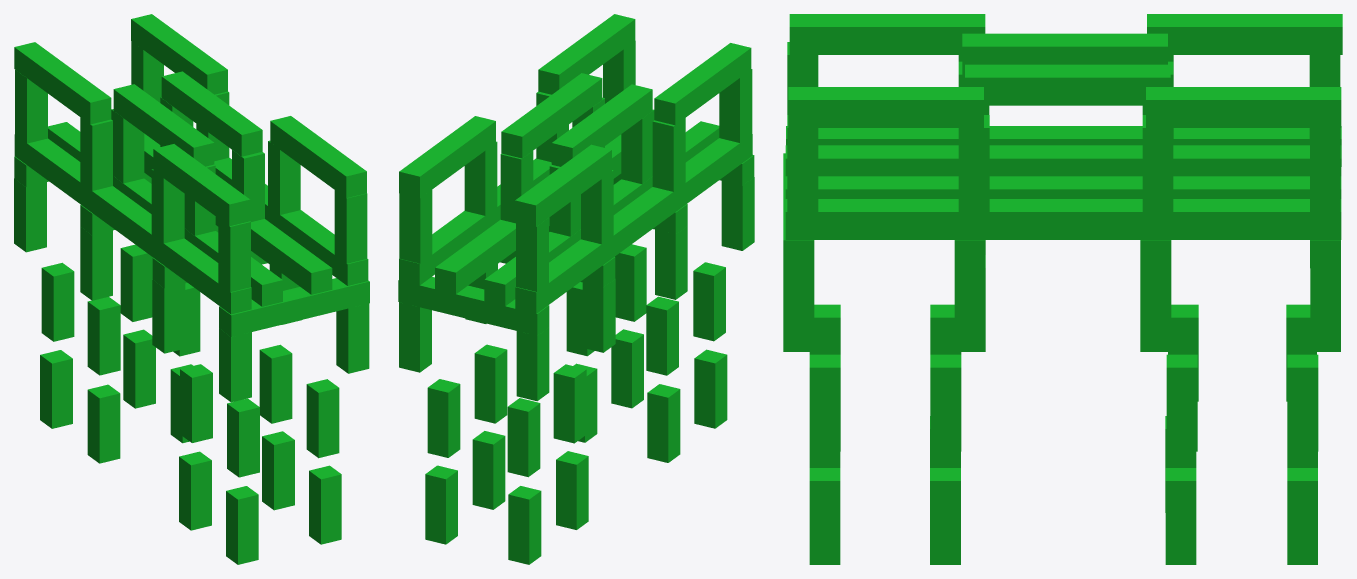
Rendered from Dynamic_1kg_0_5friction.fbx.
3 renders of one model, left to right at view 1: azimuth 30°, elevation 25°; view 2: azimuth 150°, elevation 25°; view 3: azimuth 270°, elevation 25°, orthographic. The views are drawn at different scales.
Visible parts, largest first — view 1: D1DynamicBox24, D1DynamicBox22, D1DynamicBox41, D1DynamicBox43, D1DynamicBox44, D1DynamicBox40, D1DynamicBox26, D1DynamicBox42, D1DynamicBox39, D1DynamicBox25, D1DynamicBox23, D1DynamicBox16 (+34 smaller); view 2: D1DynamicBox24, D1DynamicBox41, D1DynamicBox20, D1DynamicBox44, D1DynamicBox43, D1DynamicBox39, D1DynamicBox26, D1DynamicBox42, D1DynamicBox40, D1DynamicBox25, D1DynamicBox23, D1DynamicBox14 (+34 smaller); view 3: D1DynamicBox23, D1DynamicBox25, D1DynamicBox26, D1DynamicBox24, D1DynamicBox39, D1DynamicBox40, D1DynamicBox41, D1DynamicBox43, D1DynamicBox44, D1DynamicBox42, D1DynamicBox14, D1DynamicBox15 (+24 smaller).
Boxes of the visible parts, x1=… form: D1DynamicBox24: x1=14, y1=134, x2=251, y2=314; D1DynamicBox22: x1=219, y1=278, x2=369, y2=336; D1DynamicBox41: x1=161, y1=71, x2=262, y2=156; D1DynamicBox43: x1=14, y1=42, x2=111, y2=124; D1DynamicBox44: x1=153, y1=144, x2=250, y2=226; D1DynamicBox40: x1=270, y1=116, x2=366, y2=198; D1DynamicBox26: x1=144, y1=133, x2=332, y2=294; D1DynamicBox42: x1=113, y1=84, x2=214, y2=166; D1DynamicBox39: x1=131, y1=14, x2=227, y2=94; D1DynamicBox25: x1=48, y1=122, x2=282, y2=306; D1DynamicBox23: x1=214, y1=157, x2=368, y2=285; D1DynamicBox16: x1=41, y1=262, x2=74, y2=341; D1DynamicBox24: x1=515, y1=134, x2=752, y2=313; D1DynamicBox41: x1=501, y1=73, x2=602, y2=158; D1DynamicBox20: x1=398, y1=277, x2=549, y2=335; D1DynamicBox44: x1=654, y1=43, x2=751, y2=125; D1DynamicBox43: x1=515, y1=144, x2=611, y2=227; D1DynamicBox39: x1=399, y1=116, x2=495, y2=198; D1DynamicBox26: x1=435, y1=109, x2=653, y2=294; D1DynamicBox42: x1=551, y1=84, x2=652, y2=166; D1DynamicBox40: x1=538, y1=14, x2=635, y2=94; D1DynamicBox25: x1=484, y1=121, x2=719, y2=306; D1DynamicBox23: x1=399, y1=158, x2=551, y2=285; D1DynamicBox14: x1=427, y1=379, x2=460, y2=457; D1DynamicBox23: x1=785, y1=199, x2=1341, y2=239; D1DynamicBox25: x1=785, y1=145, x2=1341, y2=176; D1DynamicBox26: x1=785, y1=176, x2=1341, y2=198; D1DynamicBox24: x1=786, y1=126, x2=1341, y2=166; D1DynamicBox39: x1=1146, y1=87, x2=1341, y2=127; D1DynamicBox40: x1=788, y1=87, x2=983, y2=127; D1DynamicBox41: x1=965, y1=64, x2=1170, y2=105; D1DynamicBox43: x1=1147, y1=14, x2=1342, y2=54; D1DynamicBox44: x1=789, y1=14, x2=985, y2=54; D1DynamicBox42: x1=962, y1=33, x2=1167, y2=74; D1DynamicBox14: x1=1287, y1=354, x2=1318, y2=451; D1DynamicBox15: x1=1166, y1=354, x2=1197, y2=451.
Size of what is drawn, in the model's own units: 20.01 by 51 by 54.35.
